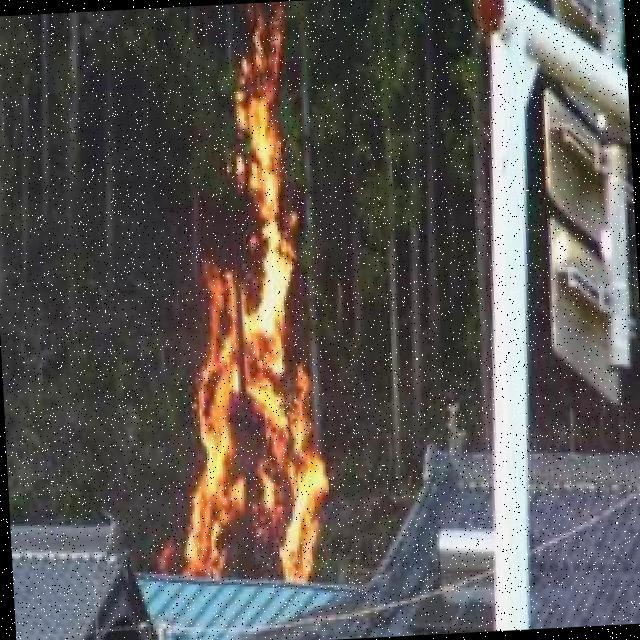Fire: (156, 22, 347, 592)
